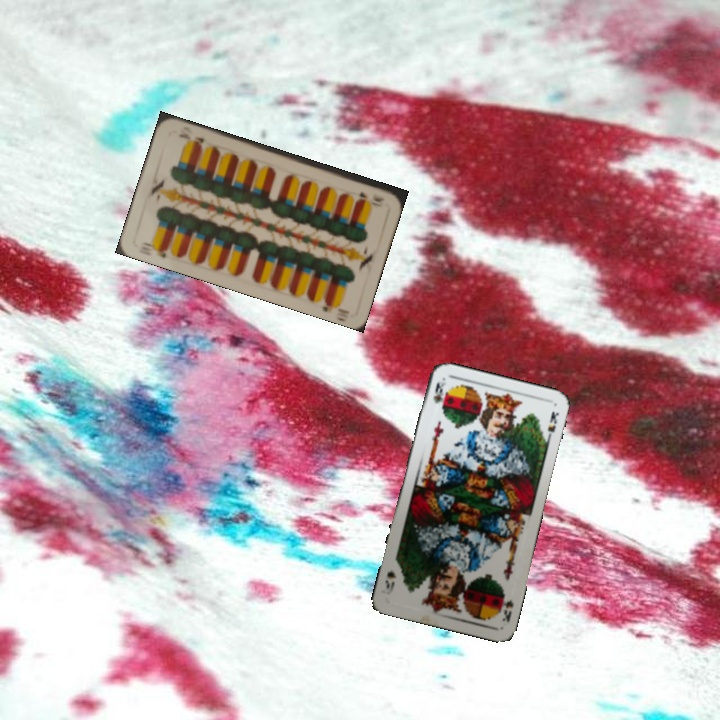E10: (139, 240, 171, 261), (355, 188, 387, 205)
SK: (495, 589, 516, 625), (429, 376, 448, 406)
